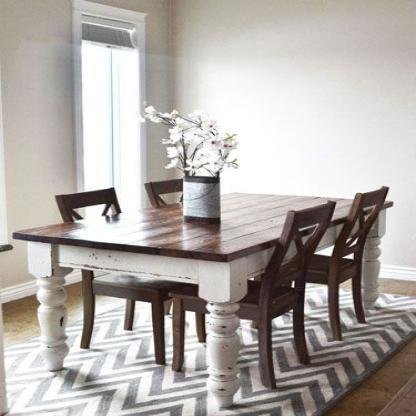chair: (174, 196, 330, 381), (47, 183, 163, 356), (311, 179, 393, 330), (142, 169, 193, 206)
table: (23, 184, 405, 400)
